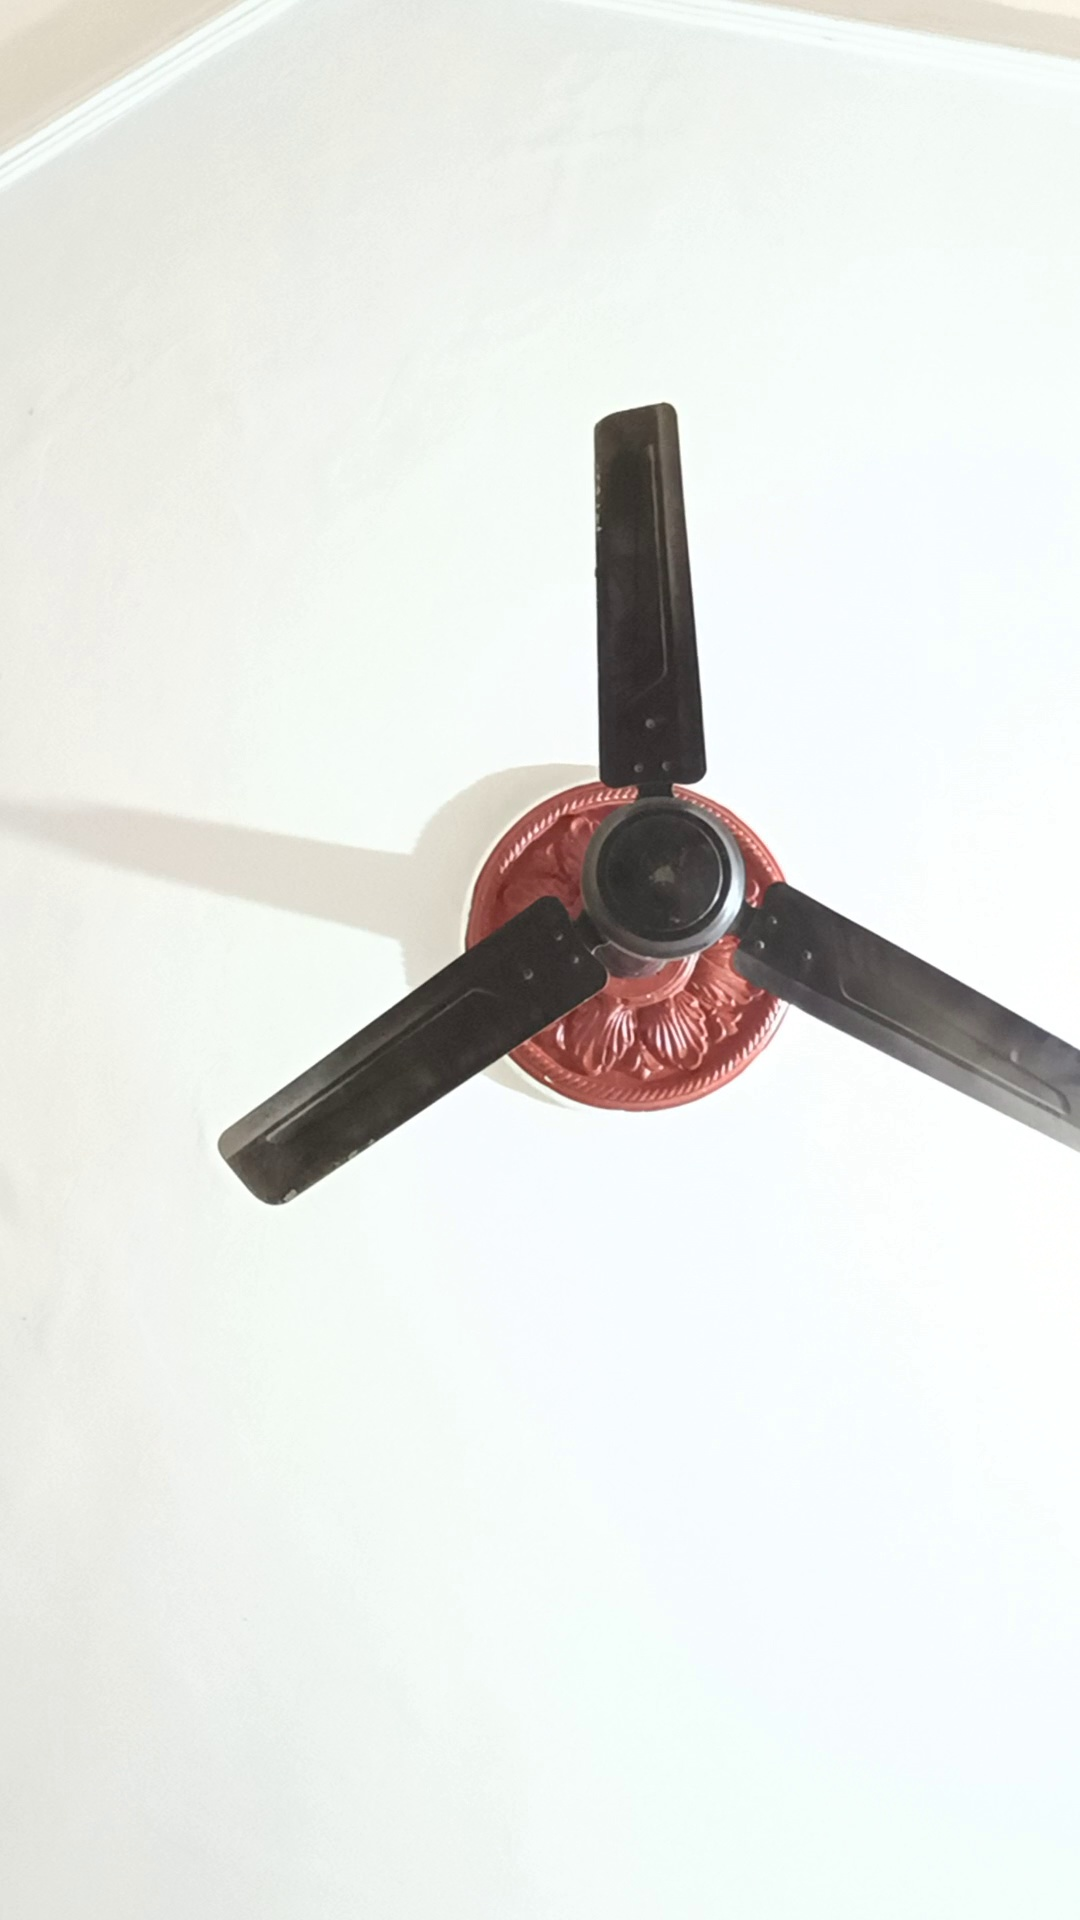fan: (233, 388, 1080, 1240)
